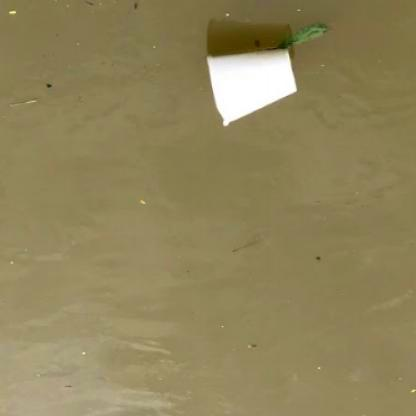Plastic: (204, 42, 299, 131)
